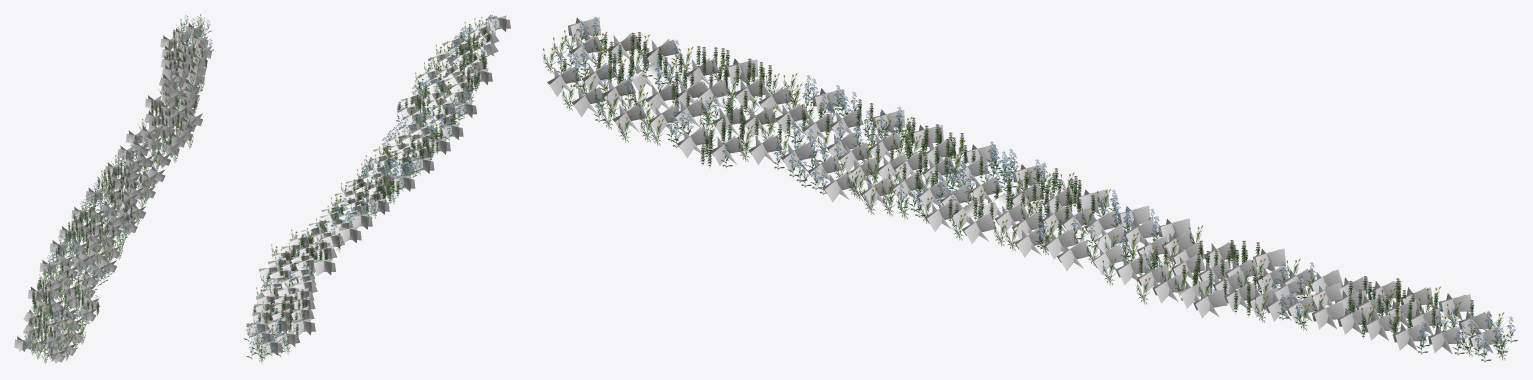
File: flower_grass_a.glb
The picture shows the model from 3 angles, left to right: view 1: azimuth 30°, elevation 25°; view 2: azimuth 210°, elevation 25°; view 3: azimuth 270°, elevation 25°; orthographic projection. The views are drawn at different scales.
Parts seen in each view (by area): view 1: stk_grassAlpha.png__, BlackEyedSusan.png__, Flower5.png__, Flower3.png__, Flower3F.png__, Flower5F.png__; view 2: stk_grassAlpha.png__, Flower5.png__, BlackEyedSusan.png__, Flower3.png__, Flower3F.png__, Flower5F.png__; view 3: stk_grassAlpha.png__, BlackEyedSusan.png__, Flower5.png__, Flower3.png__, Flower3F.png__, Flower5F.png__.
Boxes of the visible parts, left/top/right/bottom form: stk_grassAlpha.png__: left=14, top=23, right=211, bottom=363; BlackEyedSusan.png__: left=26, top=14, right=204, bottom=363; Flower5.png__: left=29, top=30, right=206, bottom=357; Flower3.png__: left=23, top=15, right=213, bottom=358; Flower3F.png__: left=24, top=18, right=212, bottom=352; Flower5F.png__: left=29, top=30, right=206, bottom=346; stk_grassAlpha.png__: left=246, top=15, right=510, bottom=357; Flower5.png__: left=252, top=27, right=490, bottom=336; BlackEyedSusan.png__: left=256, top=16, right=489, bottom=363; Flower3.png__: left=244, top=15, right=499, bottom=359; Flower3F.png__: left=247, top=14, right=498, bottom=352; Flower5F.png__: left=253, top=27, right=490, bottom=324; stk_grassAlpha.png__: left=547, top=17, right=1502, bottom=354; BlackEyedSusan.png__: left=543, top=28, right=1508, bottom=360; Flower5.png__: left=562, top=32, right=1473, bottom=338; Flower3.png__: left=557, top=17, right=1517, bottom=362; Flower3F.png__: left=557, top=16, right=1515, bottom=351; Flower5F.png__: left=563, top=32, right=1473, bottom=318.
Size of the model in its own units: 88.2 by 14.06 by 91.75.
Materials: 6 (5 with a texture image).
